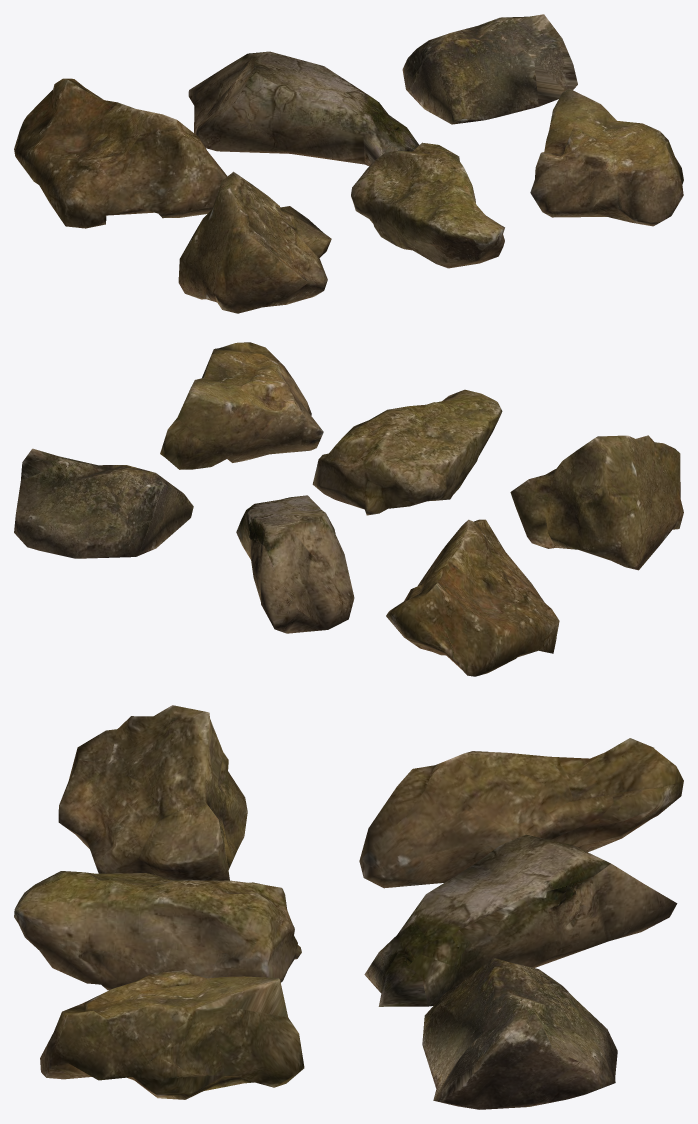
File: rocks-lod.glb
The picture shows the model from 3 angles, top to bottom: view 1: azimuth 30°, elevation 25°; view 2: azimuth 150°, elevation 25°; view 3: azimuth 270°, elevation 25°; orthographic projection. The views are drawn at different scales.
Visible parts, largest first — view 1: rock_moss_set_01_rock01, rock_moss_set_01_rock02, rock_moss_set_01_rock06, rock_moss_set_01_rock04, rock_moss_set_01_rock03, rock_moss_set_01_rock05; view 2: rock_moss_set_01_rock04, rock_moss_set_01_rock01, rock_moss_set_01_rock05, rock_moss_set_01_rock03, rock_moss_set_01_rock06, rock_moss_set_01_rock02; view 3: rock_moss_set_01_rock01, rock_moss_set_01_rock02, rock_moss_set_01_rock05, rock_moss_set_01_rock06, rock_moss_set_01_rock04, rock_moss_set_01_rock03.
Part boxes in pixels (x1=…): rock_moss_set_01_rock01: x1=14, y1=78, x2=227, y2=228; rock_moss_set_01_rock02: x1=188, y1=51, x2=418, y2=166; rock_moss_set_01_rock06: x1=530, y1=88, x2=683, y2=226; rock_moss_set_01_rock04: x1=178, y1=171, x2=331, y2=313; rock_moss_set_01_rock03: x1=402, y1=14, x2=577, y2=124; rock_moss_set_01_rock05: x1=351, y1=142, x2=504, y2=268; rock_moss_set_01_rock04: x1=510, y1=435, x2=683, y2=570; rock_moss_set_01_rock01: x1=386, y1=519, x2=559, y2=676; rock_moss_set_01_rock05: x1=312, y1=389, x2=502, y2=515; rock_moss_set_01_rock03: x1=14, y1=448, x2=193, y2=558; rock_moss_set_01_rock06: x1=160, y1=342, x2=323, y2=469; rock_moss_set_01_rock02: x1=236, y1=495, x2=354, y2=633; rock_moss_set_01_rock01: x1=359, y1=738, x2=683, y2=888; rock_moss_set_01_rock02: x1=364, y1=834, x2=677, y2=1006; rock_moss_set_01_rock05: x1=14, y1=871, x2=301, y2=990; rock_moss_set_01_rock06: x1=40, y1=969, x2=304, y2=1099; rock_moss_set_01_rock04: x1=58, y1=705, x2=247, y2=880; rock_moss_set_01_rock03: x1=422, y1=957, x2=617, y2=1109.
Size of the model in its own units: 7.98 by 1.75 by 6.93.
1 material, 1 textured.
